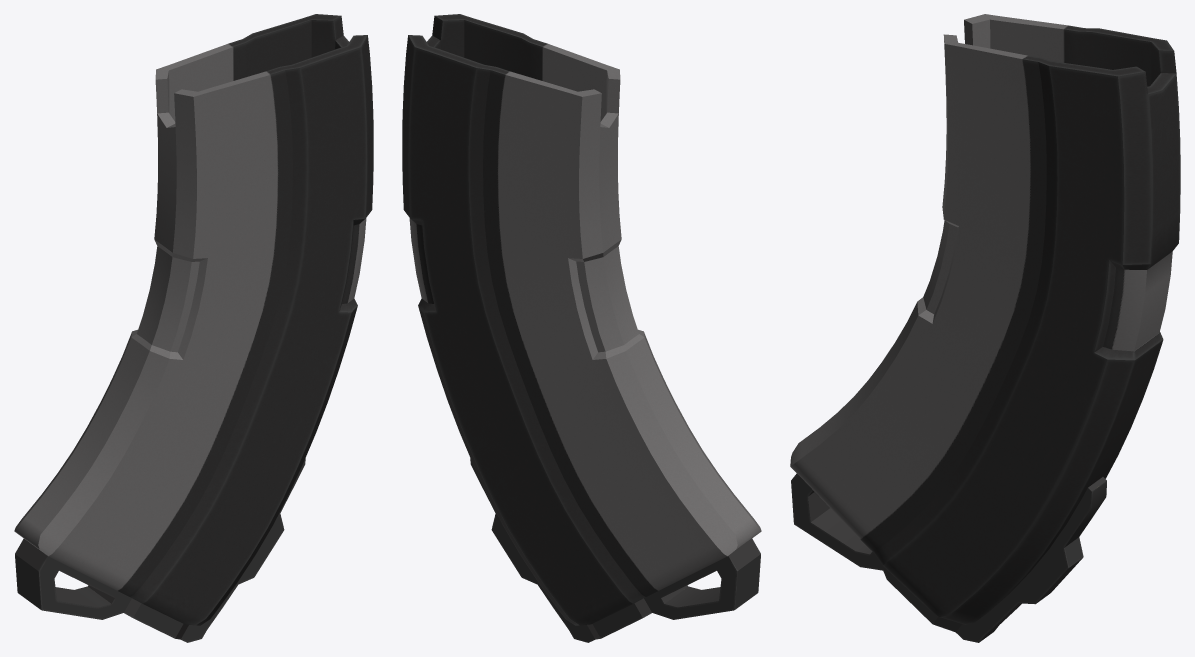
File: BullPup_Magazine_NoAmmo.fbx
3 renders of one model, left to right at view 1: azimuth 30°, elevation 25°; view 2: azimuth 150°, elevation 25°; view 3: azimuth 330°, elevation 25°, orthographic. The views are drawn at different scales.
Parts seen in each view (by area): view 1: Cube.050; view 2: Cube.050; view 3: Cube.050.
Boxes of the visible parts, bbox=[...] form: Cube.050: bbox=[14, 14, 373, 642]; Cube.050: bbox=[402, 14, 761, 642]; Cube.050: bbox=[790, 14, 1180, 642].
Bounding box in the file's own units: 6.76 × 27.65 × 45.1.
